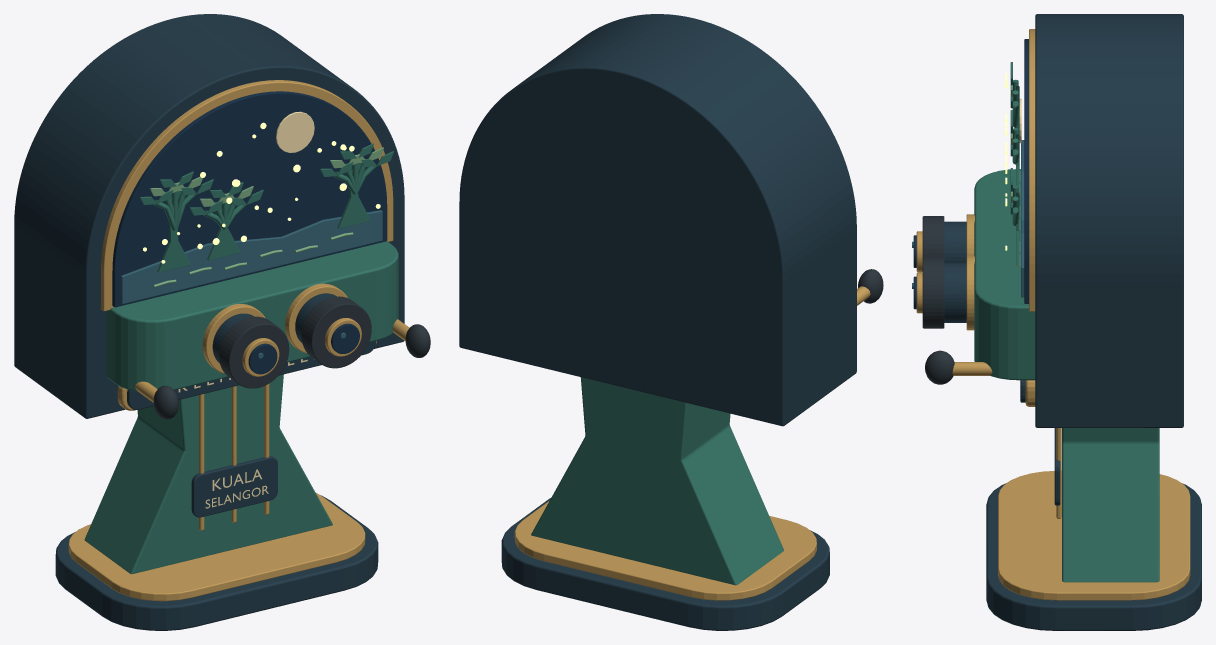
3 renders of one model, left to right at view 1: azimuth 30°, elevation 25°; view 2: azimuth 150°, elevation 25°; view 3: azimuth 270°, elevation 25°, orthographic. The views are drawn at different scales.
Visible parts, largest first — view 1: Kelip Kelip | Mangrove stereoscope - Viewing chamber, Kelip Kelip | Mangrove stereoscope - Marquee, Kelip Kelip | Mangrove stereoscope - Pedestal, Kelip Kelip | Mangrove stereoscope - Cabinetry, Kelip Kelip | Mangrove stereoscope - Scenery, Kelip Kelip | Mangrove stereoscope - Optics, Kelip Kelip | Mangrove stereoscope - Graphics, Kelip Kelip | Mangrove stereoscope - Decoration, Kelip Kelip | Mangrove stereoscope - Sculpture; view 2: Kelip Kelip | Mangrove stereoscope - Viewing chamber, Kelip Kelip | Mangrove stereoscope - Pedestal, Kelip Kelip | Mangrove stereoscope - Cabinetry, Kelip Kelip | Mangrove stereoscope - Sculpture; view 3: Kelip Kelip | Mangrove stereoscope - Viewing chamber, Kelip Kelip | Mangrove stereoscope - Cabinetry, Kelip Kelip | Mangrove stereoscope - Pedestal, Kelip Kelip | Mangrove stereoscope - Optics, Kelip Kelip | Mangrove stereoscope - Marquee, Kelip Kelip | Mangrove stereoscope - Graphics, Kelip Kelip | Mangrove stereoscope - Scenery, Kelip Kelip | Mangrove stereoscope - Sculpture, Kelip Kelip | Mangrove stereoscope - Metalwork, Kelip Kelip | Mangrove stereoscope - Decoration.
Boxes of the visible parts, box(x1,y1,x2,y2) form: Kelip Kelip | Mangrove stereoscope - Viewing chamber: box(14, 14, 404, 418); Kelip Kelip | Mangrove stereoscope - Marquee: box(101, 80, 393, 311); Kelip Kelip | Mangrove stereoscope - Pedestal: box(84, 374, 332, 574); Kelip Kelip | Mangrove stereoscope - Cabinetry: box(55, 492, 378, 630); Kelip Kelip | Mangrove stereoscope - Scenery: box(121, 143, 393, 303); Kelip Kelip | Mangrove stereoscope - Optics: box(202, 283, 371, 388); Kelip Kelip | Mangrove stereoscope - Graphics: box(117, 163, 376, 517); Kelip Kelip | Mangrove stereoscope - Decoration: box(143, 111, 380, 358); Kelip Kelip | Mangrove stereoscope - Sculpture: box(153, 324, 430, 419); Kelip Kelip | Mangrove stereoscope - Viewing chamber: box(459, 14, 856, 426); Kelip Kelip | Mangrove stereoscope - Pedestal: box(531, 377, 783, 585); Kelip Kelip | Mangrove stereoscope - Cabinetry: box(501, 497, 829, 630); Kelip Kelip | Mangrove stereoscope - Sculpture: box(858, 269, 883, 303); Kelip Kelip | Mangrove stereoscope - Viewing chamber: box(974, 14, 1183, 427); Kelip Kelip | Mangrove stereoscope - Cabinetry: box(986, 471, 1201, 630); Kelip Kelip | Mangrove stereoscope - Pedestal: box(1056, 428, 1159, 582); Kelip Kelip | Mangrove stereoscope - Optics: box(913, 214, 974, 330); Kelip Kelip | Mangrove stereoscope - Marquee: box(1024, 29, 1035, 311); Kelip Kelip | Mangrove stereoscope - Graphics: box(1012, 79, 1060, 505); Kelip Kelip | Mangrove stereoscope - Scenery: box(1010, 62, 1024, 297); Kelip Kelip | Mangrove stereoscope - Sculpture: box(925, 350, 954, 384); Kelip Kelip | Mangrove stereoscope - Metalwork: box(952, 362, 992, 375); Kelip Kelip | Mangrove stereoscope - Decoration: box(912, 72, 1021, 288).
Size of the model in its own units: 1.47 by 2.3 by 1.13.
